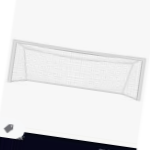goals: (7, 37, 147, 102)
